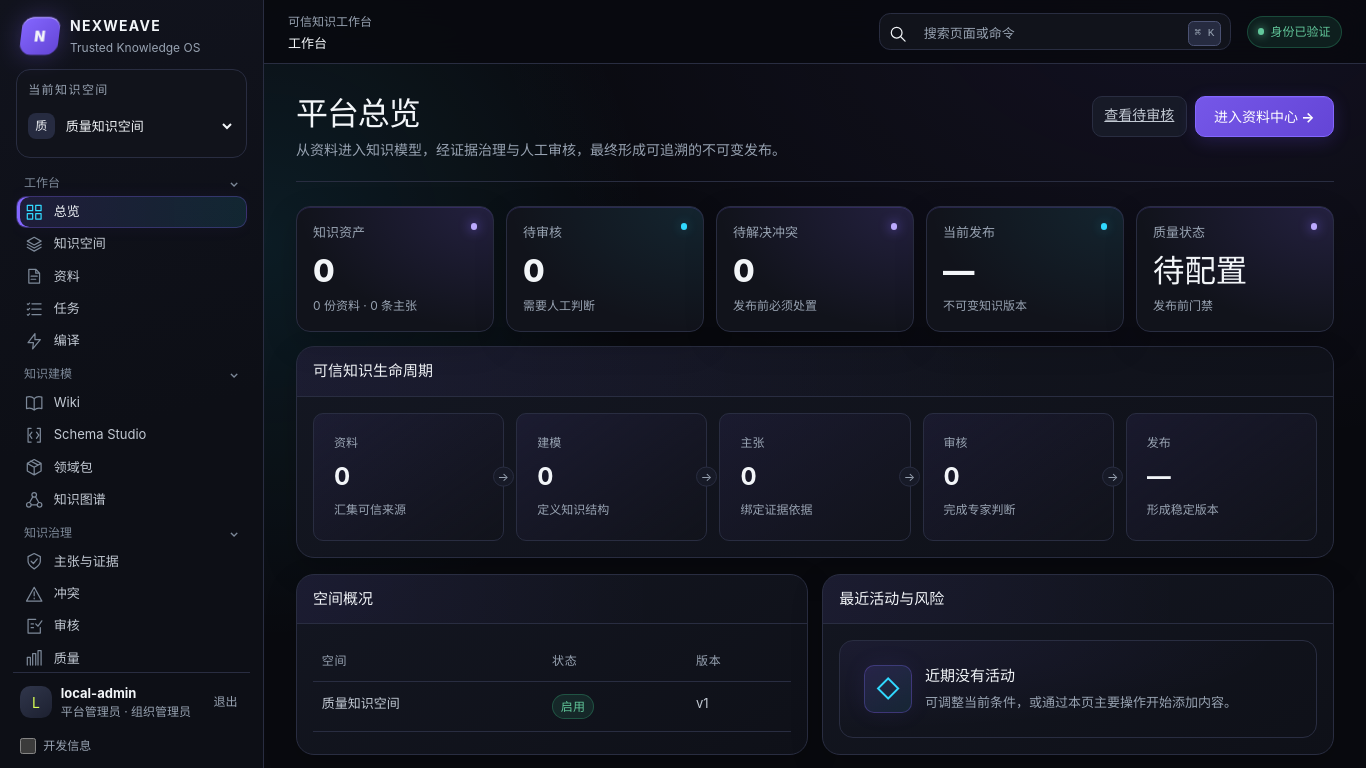
Test case: restores a trusted session and opens the real M3 source center
expect the heading "平台总览" is shown: met, box [296,94,420,133]
expect the button "任务" is shown: met, box [16,293,247,325]
Click the button "资料": (132, 276) [16,260,247,293]
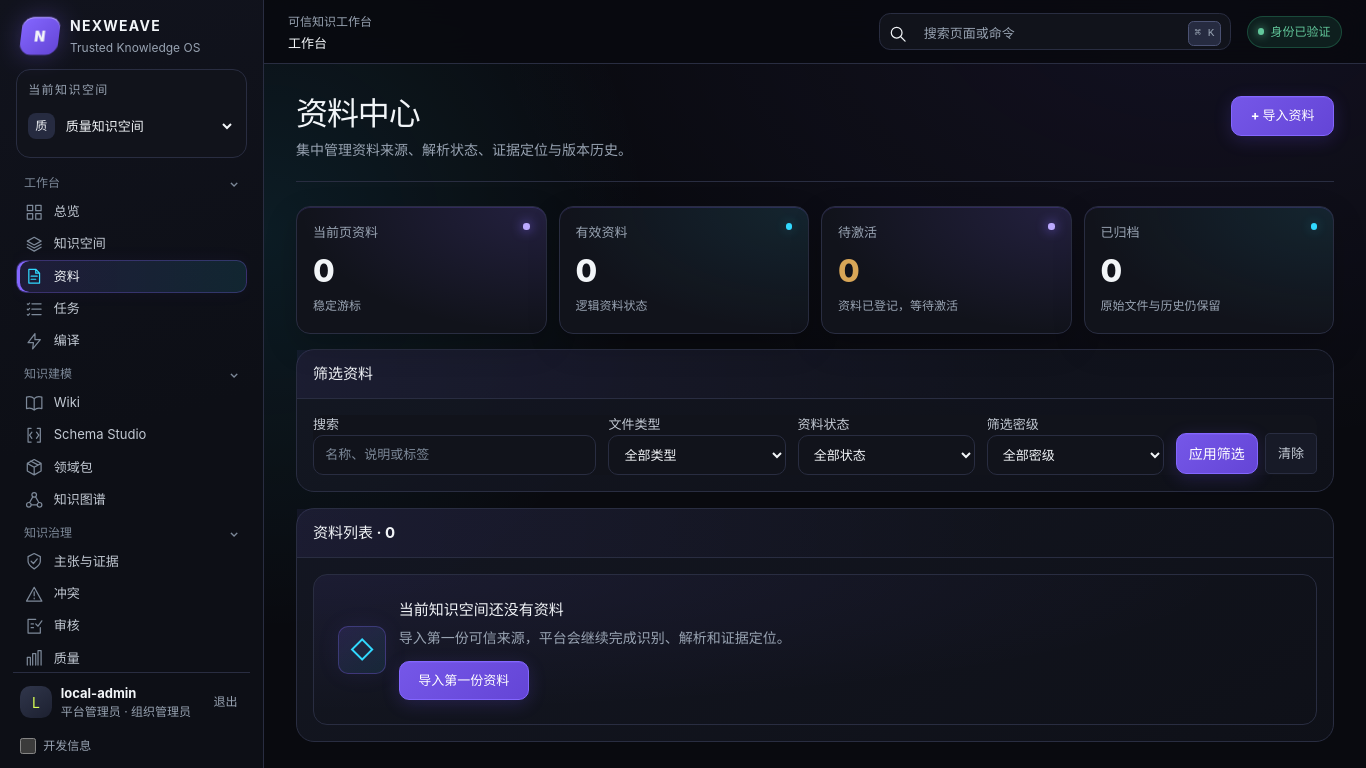
expect the heading "资料中心" is shown: met, box [296,94,420,133]
expect the text "当前知识空间还没有资料" is shown: met, box [399,600,564,619]
expect the button "+ 导入资料" is enabled: met, box [1231,96,1334,136]
